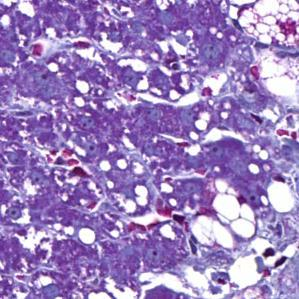ballooning: (184, 177, 258, 254), (221, 2, 293, 54)
